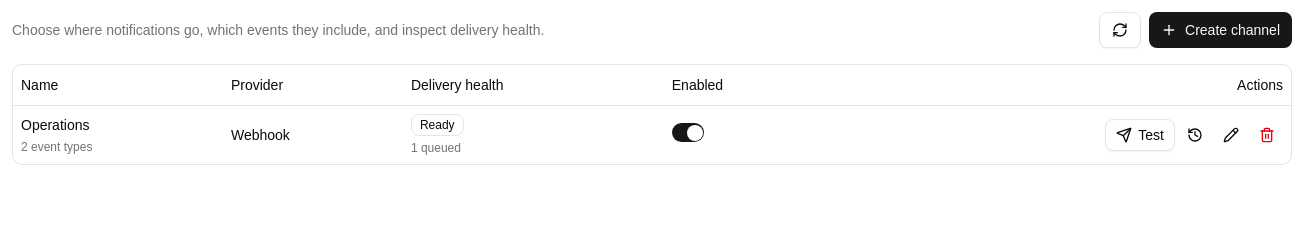
Scenario: notification channel operations › surfaces admin action failures and prevents duplicate submissions
This screenshot has width=1304, height=236.
What coordinates should you click on to do the following:
click the button "Test"
I would click on:
 (1140, 134)
Its box is left=1105, top=118, right=1175, bottom=150.
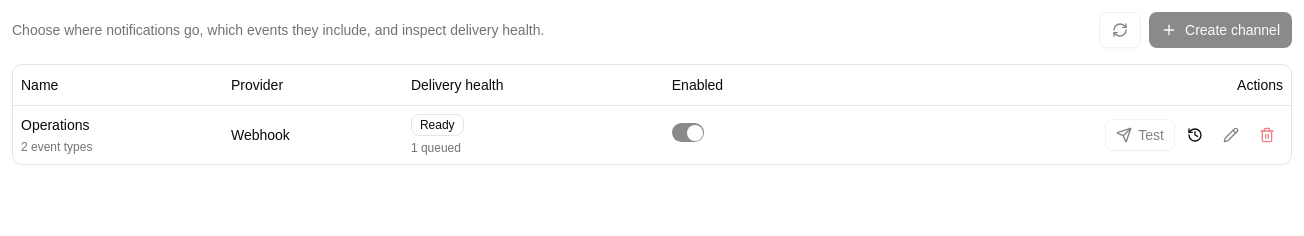
What coordinates should you click on to do the following:
click the button "Test"
I would click on:
 (1140, 134)
Its box is left=1105, top=118, right=1175, bottom=150.
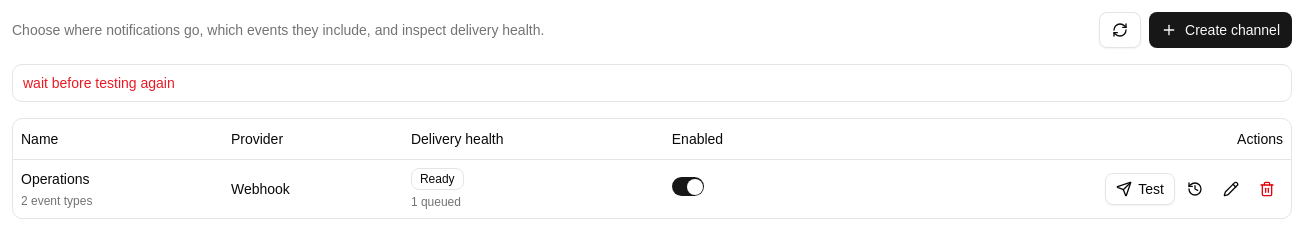
Check: the text "wait before testing again" is shown, box left=23, top=75, right=175, bottom=91
